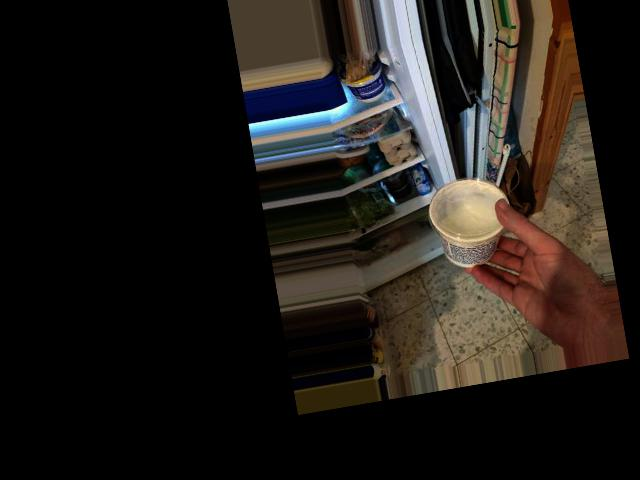cotage: (426, 177, 509, 271)
